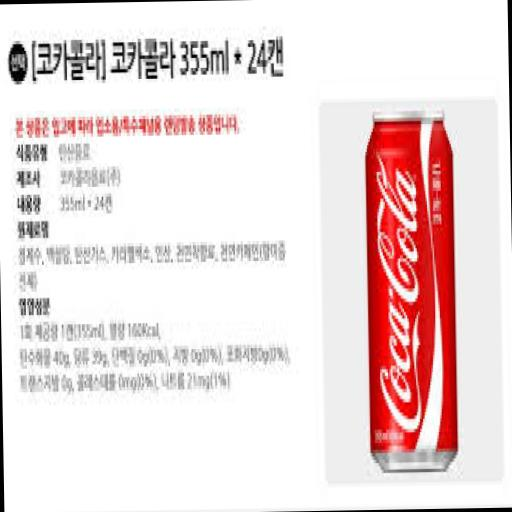Coca: (356, 94, 466, 480)
